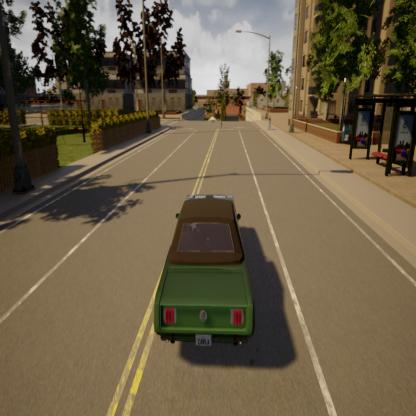Cars: (151, 166, 264, 366)
